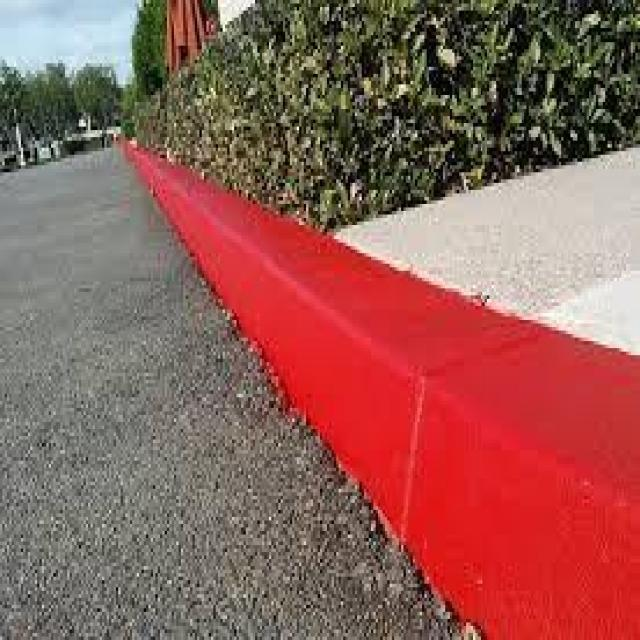bump: (238, 207, 640, 598)
